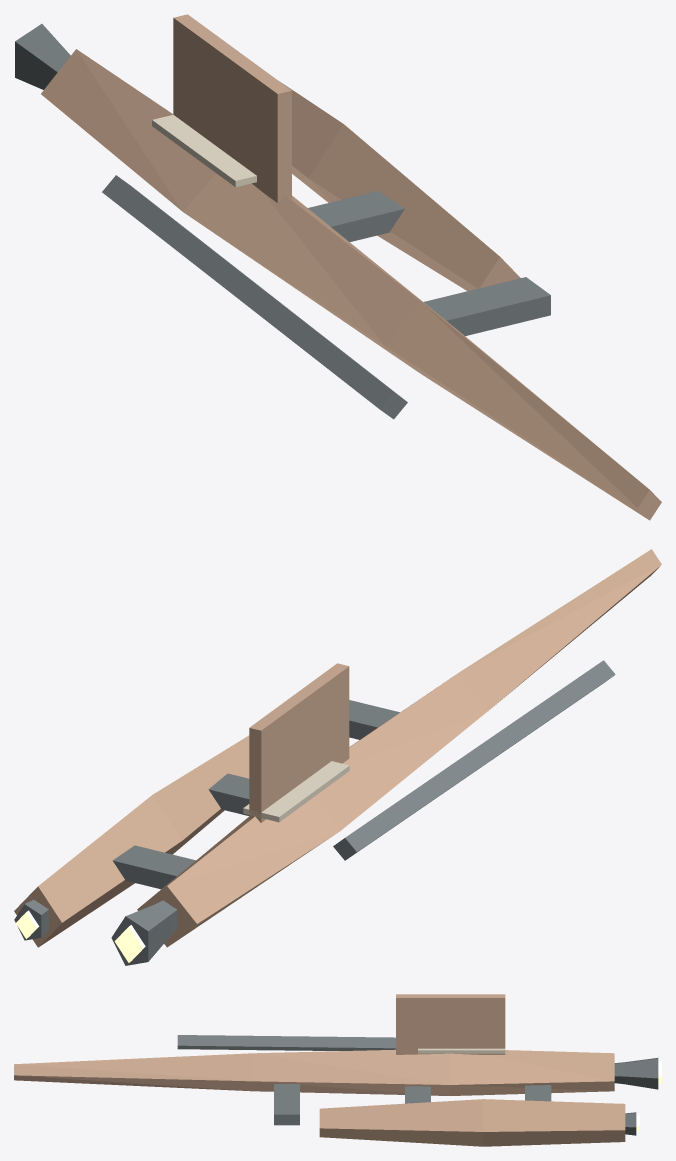
The picture shows the model from 3 angles, top to bottom: view 1: azimuth 30°, elevation 25°; view 2: azimuth 150°, elevation 25°; view 3: azimuth 270°, elevation 25°; orthographic projection. The views are drawn at different scales.
Size of the model in its own units: 4.98 by 3.56 by 18.3.
